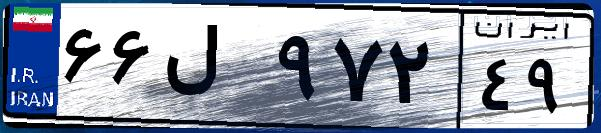2: (385, 28, 445, 110)
4: (475, 38, 525, 113)
6: (57, 26, 110, 100), (110, 28, 158, 98)
7: (330, 28, 385, 110)
9: (270, 28, 330, 110), (525, 38, 570, 115)
ل: (158, 20, 270, 120)
